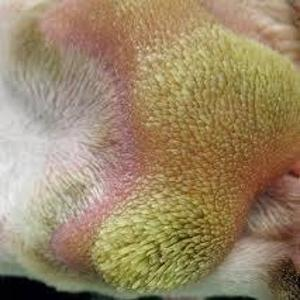keratosis: (80, 0, 298, 291)
